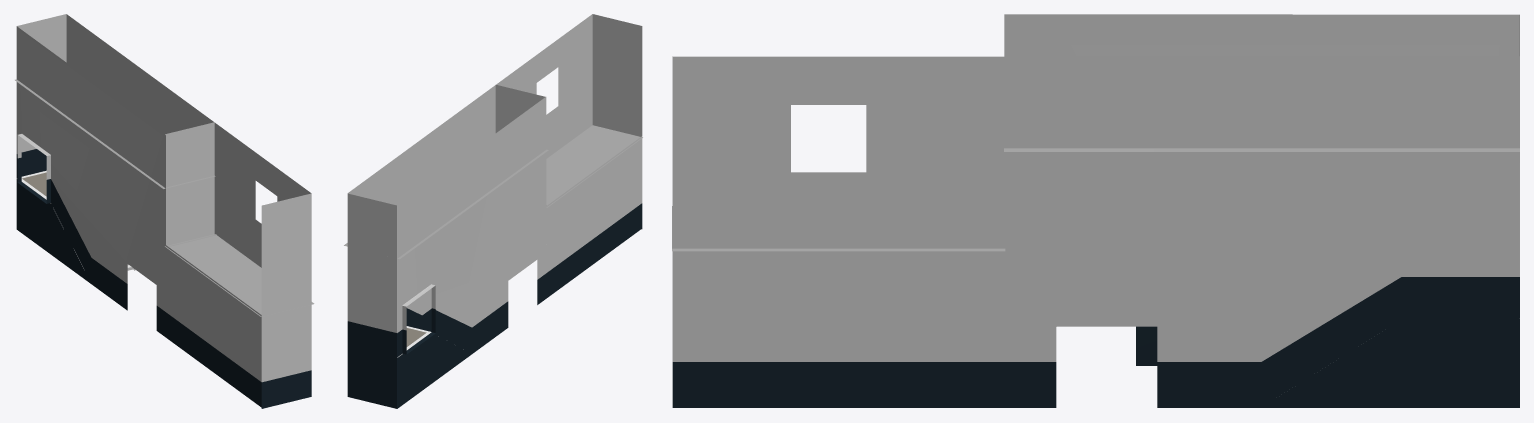
Rendered from SM_H_Building_Tide_Corridor_02K_ATLAS.fbx.
3 views of the same model, side by side, from view 1: azimuth 30°, elevation 25°; view 2: azimuth 150°, elevation 25°; view 3: azimuth 270°, elevation 25° (orthographic). The views are drawn at different scales.
Visible parts, largest first — view 1: SM_H_Building_Tide_Corridor_02K_ATLAS; view 2: SM_H_Building_Tide_Corridor_02K_ATLAS; view 3: SM_H_Building_Tide_Corridor_02K_ATLAS.
Boxes of the visible parts, x1,y1,x2,y2 form: SM_H_Building_Tide_Corridor_02K_ATLAS: [15, 14, 314, 408]; SM_H_Building_Tide_Corridor_02K_ATLAS: [344, 14, 642, 408]; SM_H_Building_Tide_Corridor_02K_ATLAS: [672, 14, 1519, 407].
Bounding box in the file's own units: 331 × 2424 × 1113.
